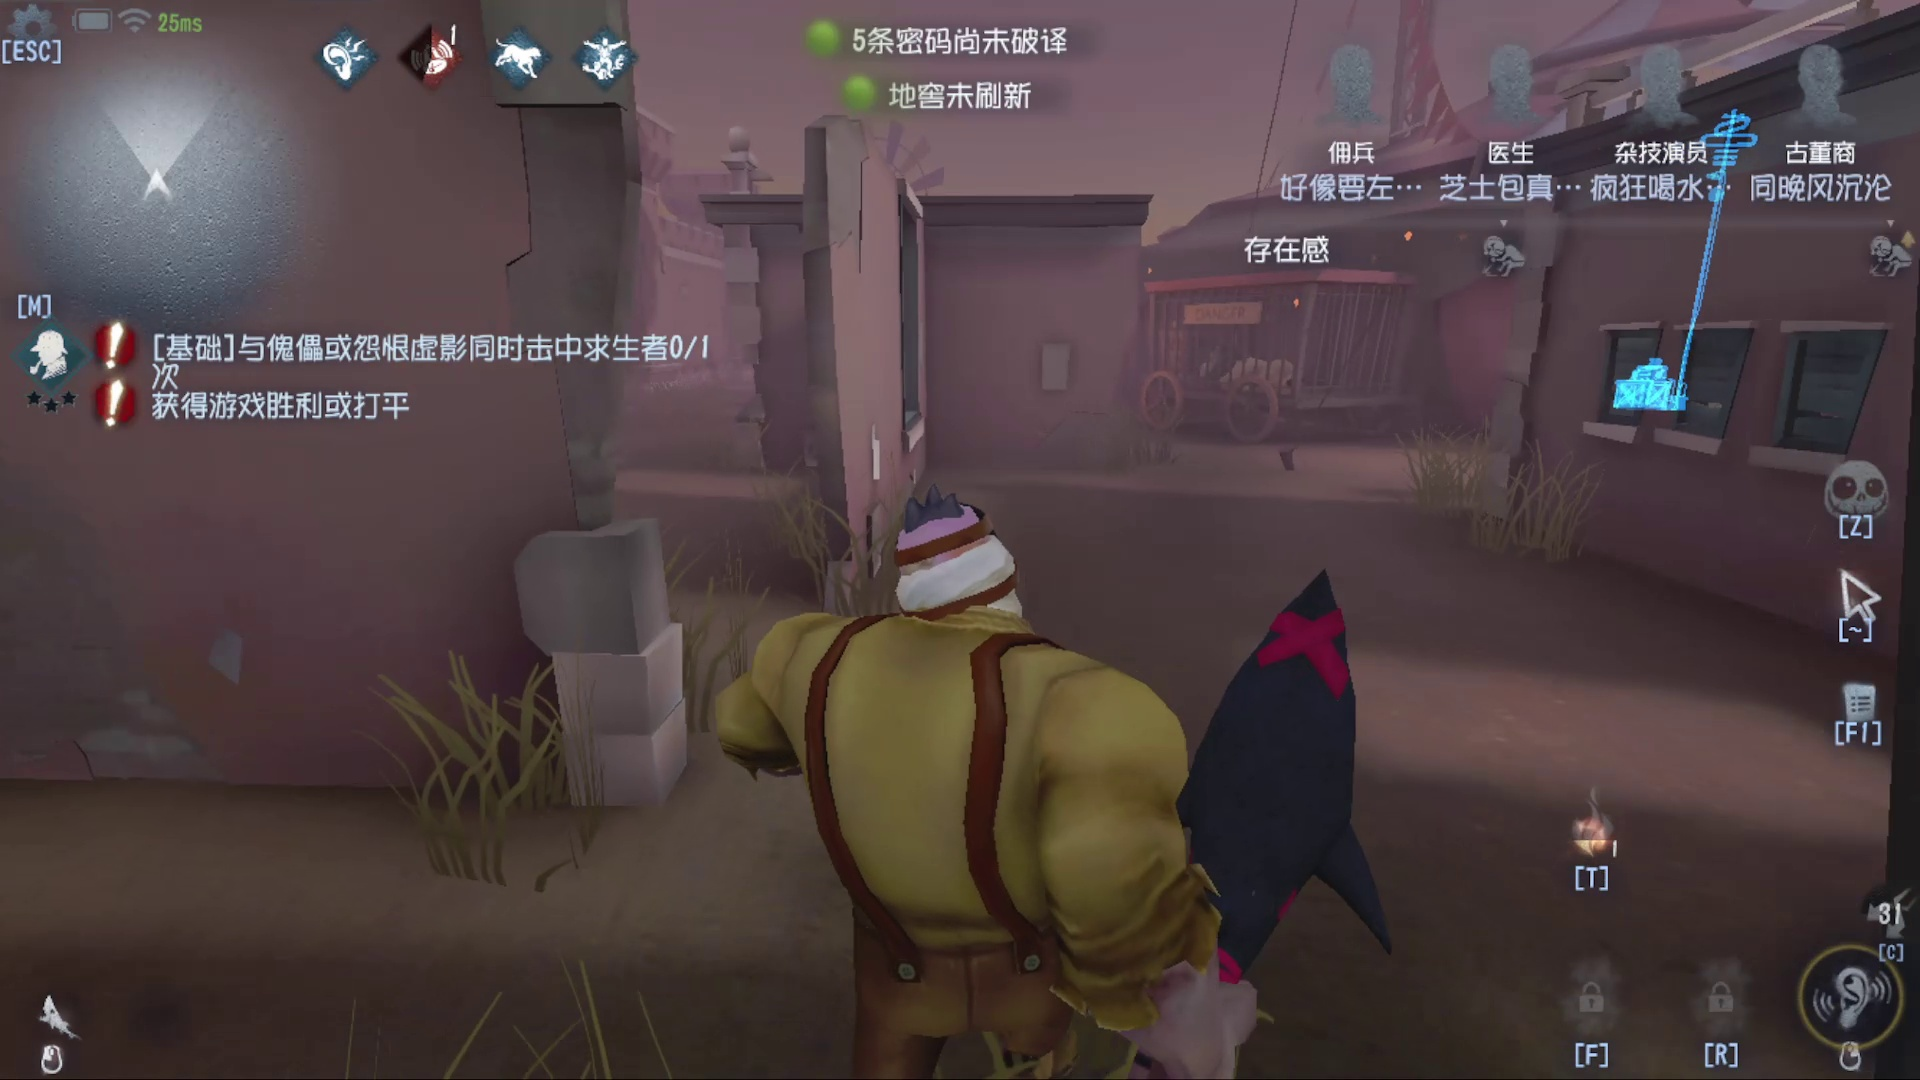密码机: (1586, 98, 1768, 440)
